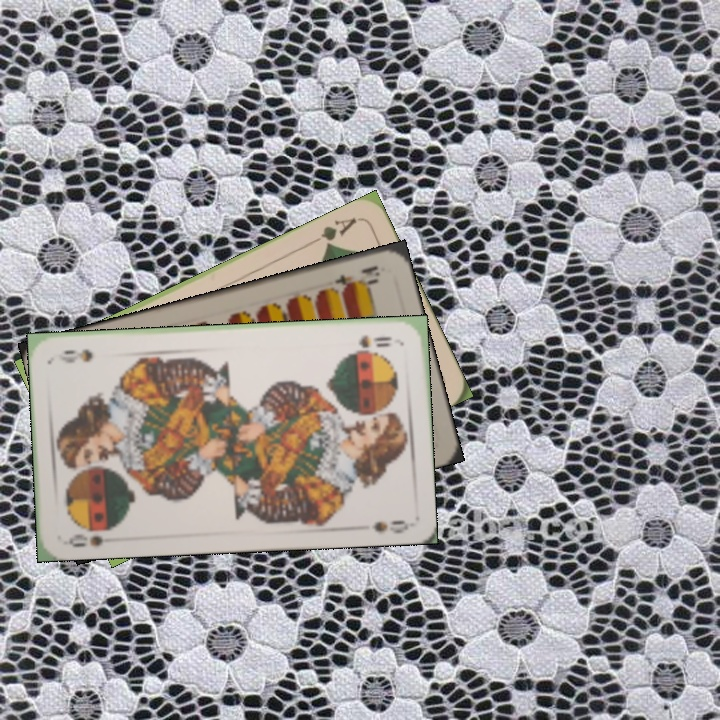E10: (330, 261, 383, 292)
GA: (306, 213, 360, 251)
SO: (64, 530, 106, 550), (355, 331, 395, 351)
